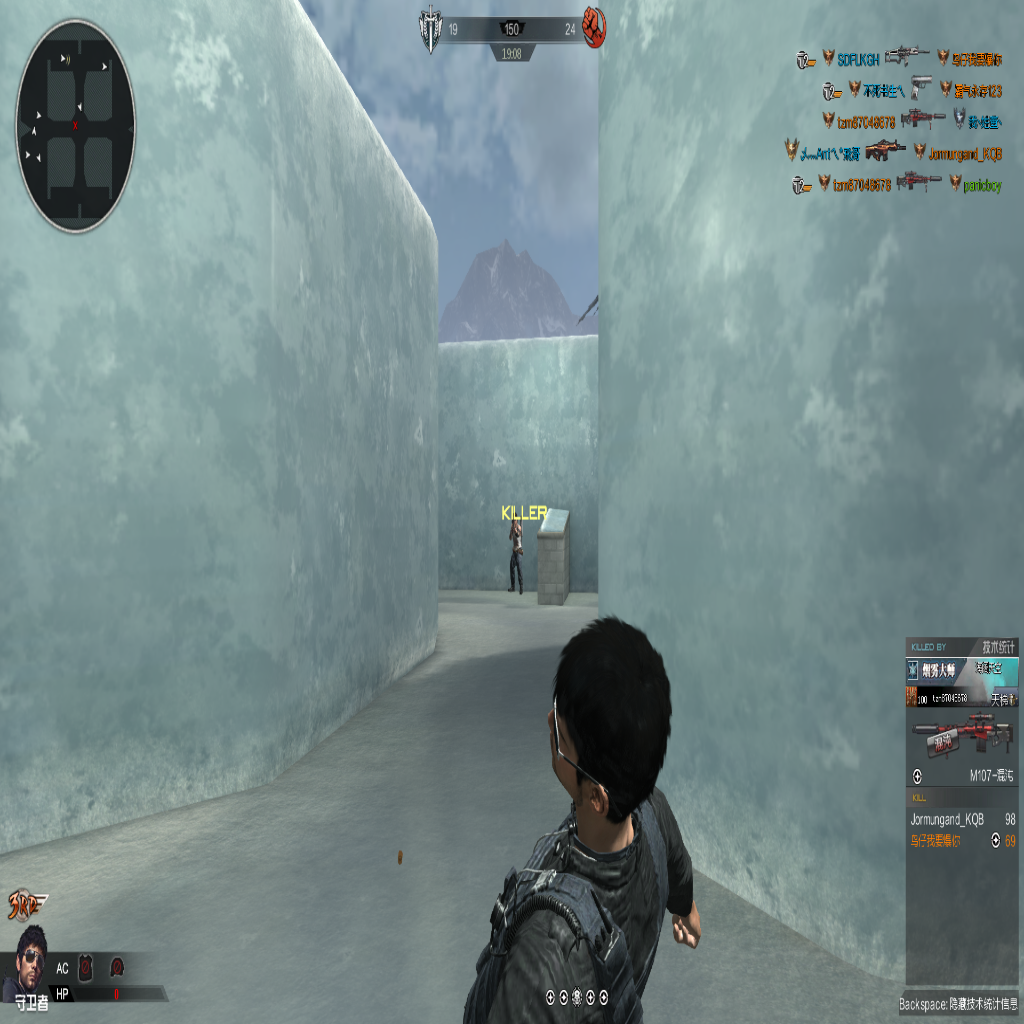tt: (507, 510, 524, 594)
